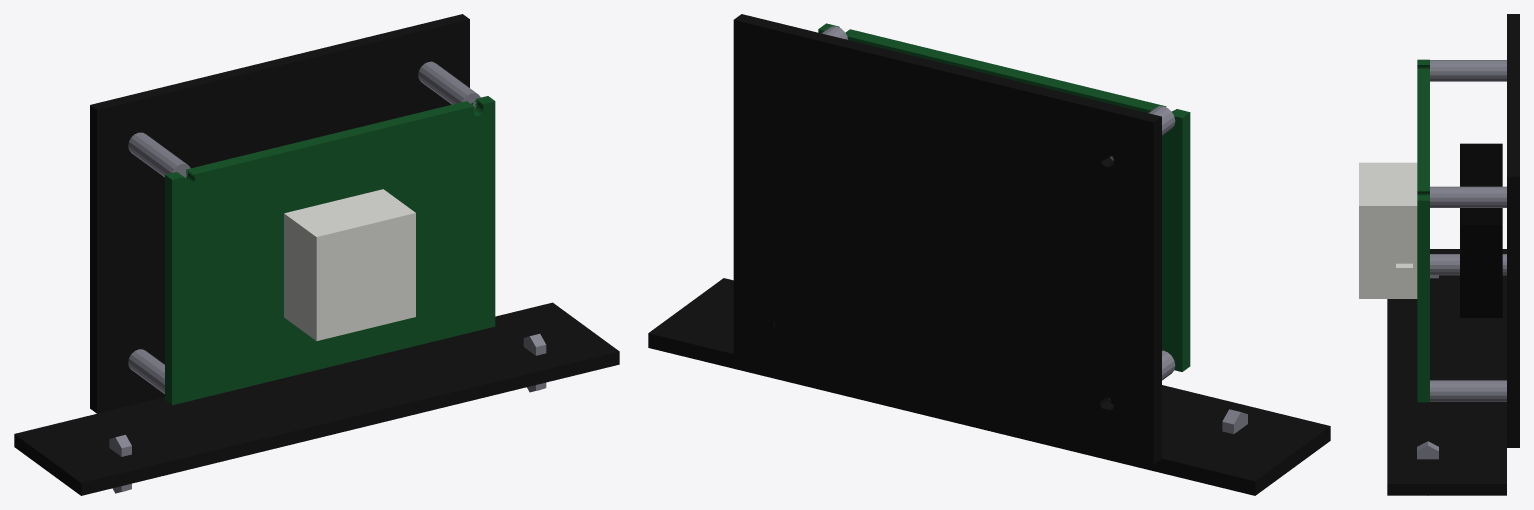
File: legged_robot_chassis.obj
3 views of the same model, side by side, from view 1: azimuth 30°, elevation 25°; view 2: azimuth 150°, elevation 25°; view 3: azimuth 270°, elevation 25° (orthographic). The views are drawn at different scales.
Parts seen in each view (by area): view 1: DWLRP_UpperDeck, DWLRP_BasePlate, DWLRP_RearExtension, DWLRP_ATOM_S3, DWLRP_Standoff_2, DWLRP_Standoff_3, DWLRP_Standoff_0; view 2: DWLRP_BasePlate, DWLRP_RearExtension, DWLRP_UpperDeck; view 3: DWLRP_RearExtension, DWLRP_ATOM_S3, DWLRP_Battery, DWLRP_BasePlate, DWLRP_UpperDeck, DWLRP_Standoff_1, DWLRP_Standoff_2, DWLRP_Standoff_3, DWLRP_Standoff_0, DWLRP_R_HipKnuckleFront.
Boxes of the visible parts, <box> form: DWLRP_UpperDeck: <box>165,96,495,405</box>; DWLRP_BasePlate: <box>90,14,469,413</box>; DWLRP_RearExtension: <box>14,302,619,495</box>; DWLRP_ATOM_S3: <box>284,189,415,341</box>; DWLRP_Standoff_2: <box>128,132,190,177</box>; DWLRP_Standoff_3: <box>418,61,480,108</box>; DWLRP_Standoff_0: <box>128,349,164,393</box>; DWLRP_BasePlate: <box>733,14,1161,464</box>; DWLRP_RearExtension: <box>648,278,1330,495</box>; DWLRP_UpperDeck: <box>818,23,1190,371</box>; DWLRP_RearExtension: <box>1387,249,1506,495</box>; DWLRP_ATOM_S3: <box>1359,162,1417,298</box>; DWLRP_Battery: <box>1460,143,1502,317</box>; DWLRP_BasePlate: <box>1507,14,1519,447</box>; DWLRP_UpperDeck: <box>1417,59,1429,402</box>; DWLRP_Standoff_1: <box>1430,380,1506,401</box>; DWLRP_Standoff_2: <box>1430,60,1506,81</box>; DWLRP_Standoff_3: <box>1430,186,1506,207</box>; DWLRP_Standoff_0: <box>1430,254,1506,275</box>; DWLRP_R_HipKnuckleFront: <box>1417,441,1438,459</box>.
Size of the model in its own units: 0.13 by 0.0795 by 0.0376.
